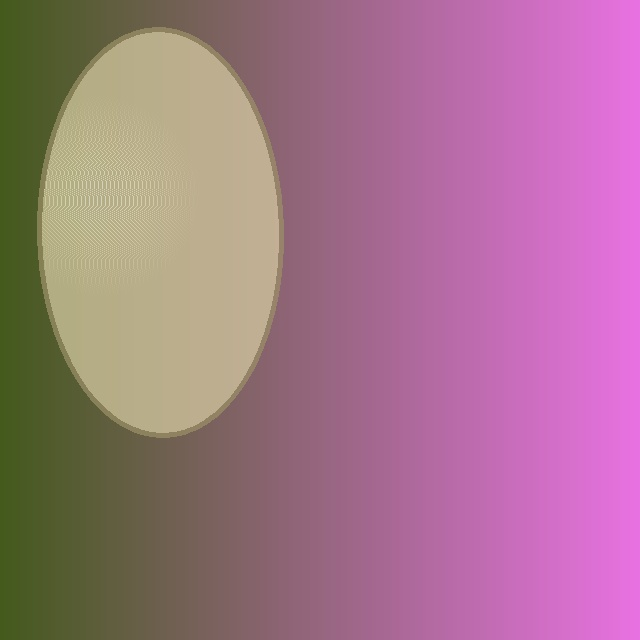lens: (39, 29, 281, 435)
